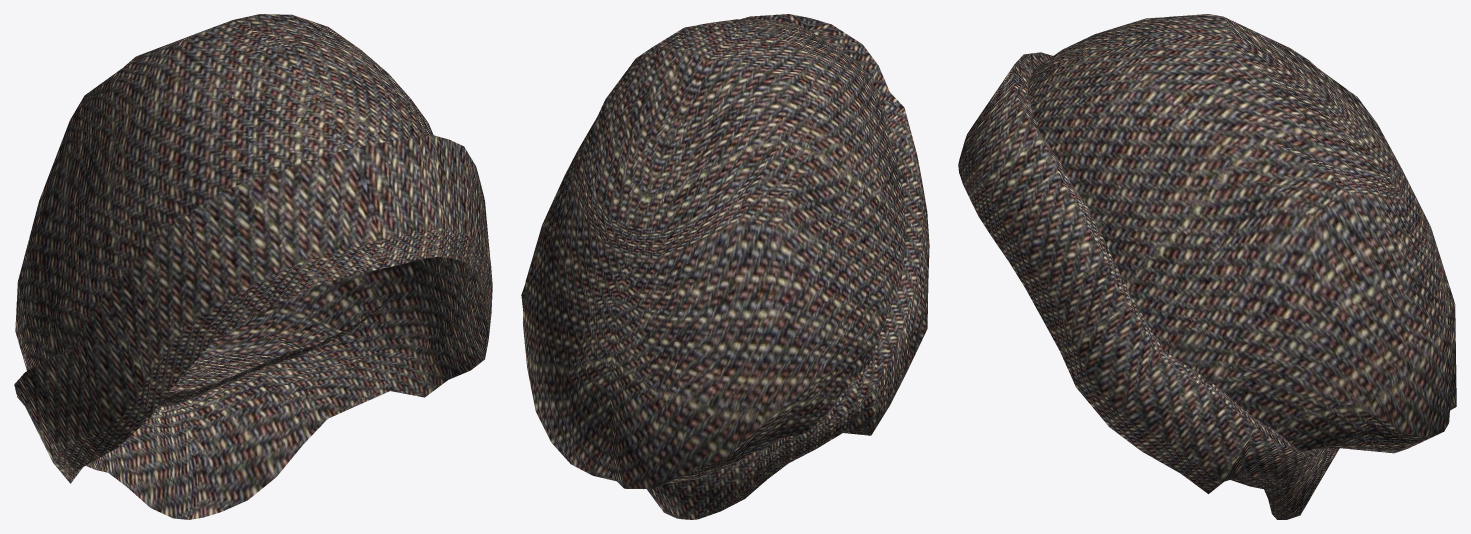
The model's file is elvs-slouchy-beanie1.glb.
The picture shows the model from 3 angles, left to right: view 1: azimuth 30°, elevation 25°; view 2: azimuth 150°, elevation 25°; view 3: azimuth 270°, elevation 25°; orthographic projection. The views are drawn at different scales.
Visible parts, largest first — view 1: Human.elvs_slouchy_beanie1; view 2: Human.elvs_slouchy_beanie1; view 3: Human.elvs_slouchy_beanie1.
Part boxes in pixels (x1,y1,x2,y2): Human.elvs_slouchy_beanie1: (14,14,492,519); Human.elvs_slouchy_beanie1: (521,14,929,519); Human.elvs_slouchy_beanie1: (958,14,1456,519).
Bounding box in the file's own units: 0.1911 × 0.225 × 0.2112.
1 material, 1 textured.
